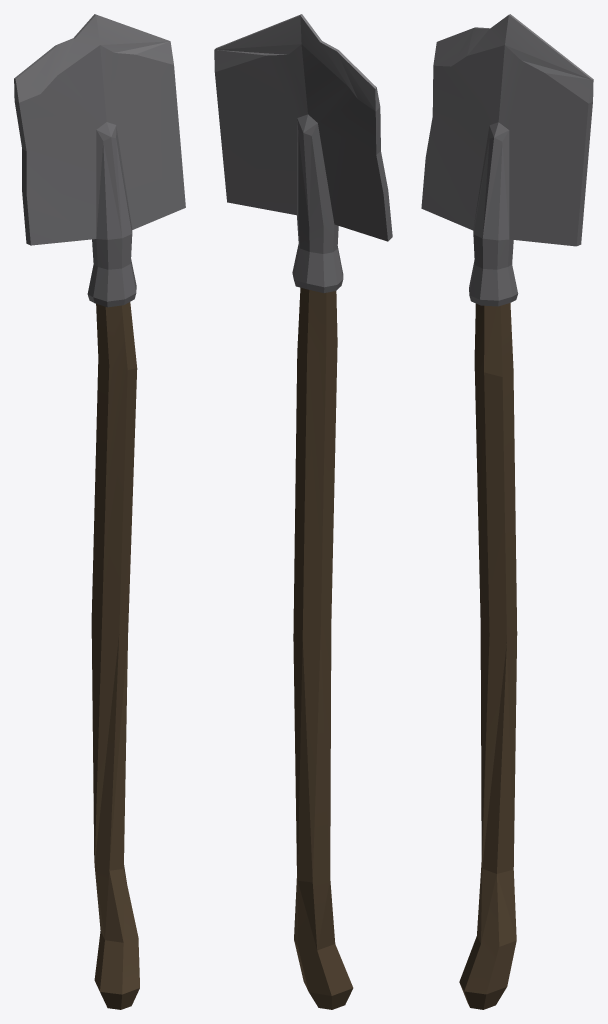
File: Pala.glb
3 views of the same model, side by side, from view 1: azimuth 30°, elevation 25°; view 2: azimuth 150°, elevation 25°; view 3: azimuth 330°, elevation 25° (orthographic). The views are drawn at different scales.
Visible parts, largest first — view 1: SM_Wep_Spade_01; view 2: SM_Wep_Spade_01; view 3: SM_Wep_Spade_01.
Part boxes in pixels (x1,y1,x2,y2): SM_Wep_Spade_01: [14, 14, 185, 1009]; SM_Wep_Spade_01: [214, 14, 392, 1009]; SM_Wep_Spade_01: [421, 14, 593, 1009].
Bounding box in the file's own units: 0.3285 × 1.97 × 0.1511.
1 material, 1 textured.
